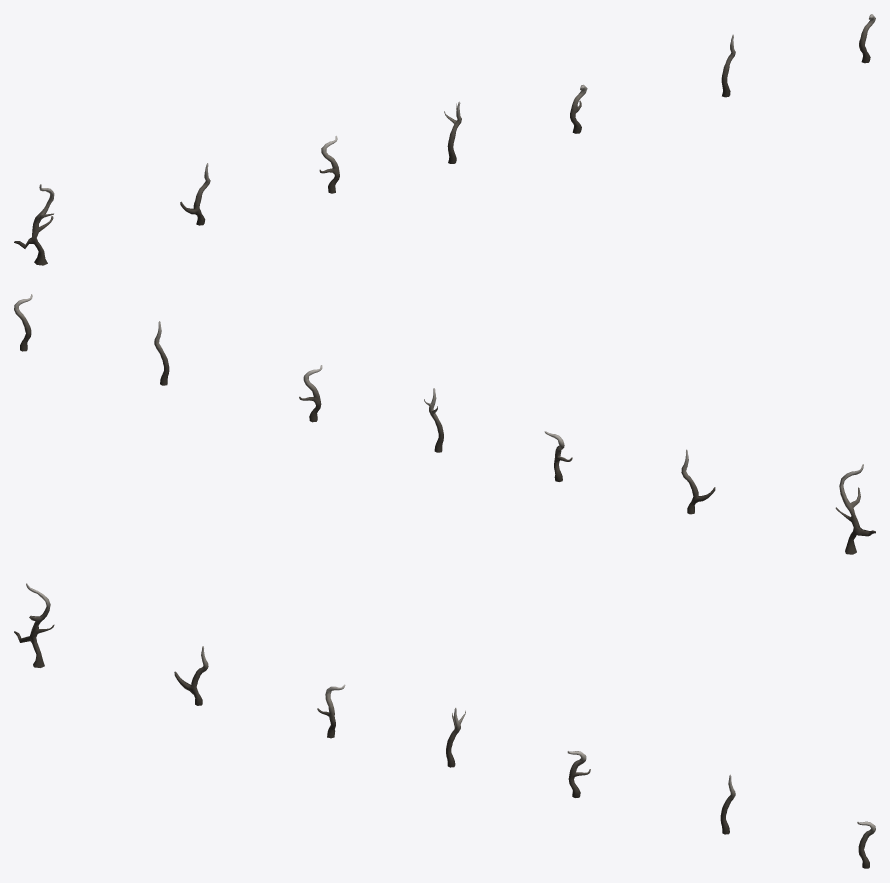
The model's file is M_Trees_Twigs_01.fbx.
3 renders of one model, top to bottom at view 1: azimuth 30°, elevation 25°; view 2: azimuth 150°, elevation 25°; view 3: azimuth 330°, elevation 25°, orthographic.
Parts seen in each view (by area): view 1: M_Root_Twig07; view 2: M_Root_Twig07; view 3: M_Root_Twig07.
Part boxes in pixels (left/top/right/bottom): M_Root_Twig07: left=14, top=184, right=54, bottom=265; M_Root_Twig07: left=835, top=464, right=875, bottom=554; M_Root_Twig07: left=14, top=583, right=54, bottom=667.
Bounding box in the file's own units: 1282 × 121 × 40.94.
